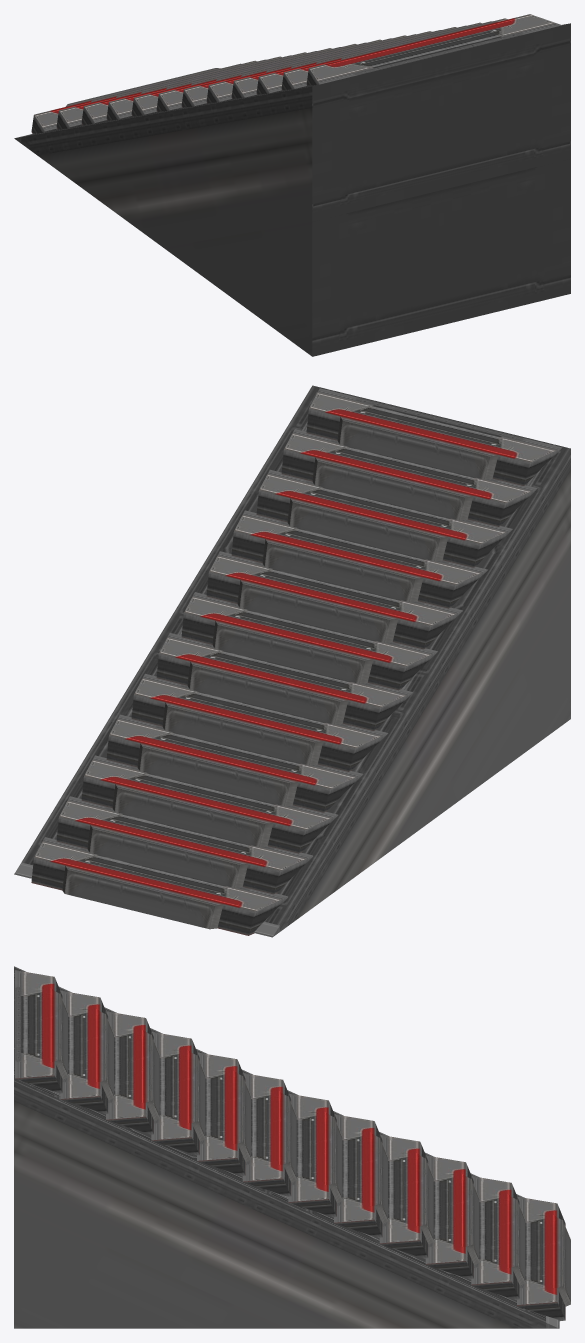
The model's file is sf_stairs_4.glb.
The picture shows the model from 3 angles, top to bottom: view 1: azimuth 30°, elevation 25°; view 2: azimuth 150°, elevation 25°; view 3: azimuth 270°, elevation 25°; orthographic projection. The views are drawn at different scales.
Parts seen in each view (by area): view 1: Platform_Stairs_4; view 2: Platform_Stairs_4; view 3: Platform_Stairs_4.
Part boxes in pixels (bbox=[...]): Platform_Stairs_4: bbox=[14, 14, 570, 356]; Platform_Stairs_4: bbox=[14, 385, 570, 937]; Platform_Stairs_4: bbox=[14, 966, 570, 1328].
Bounding box in the file's own units: 2 × 2.01 × 4.08.
Materials: 2 (2 with a texture image).
